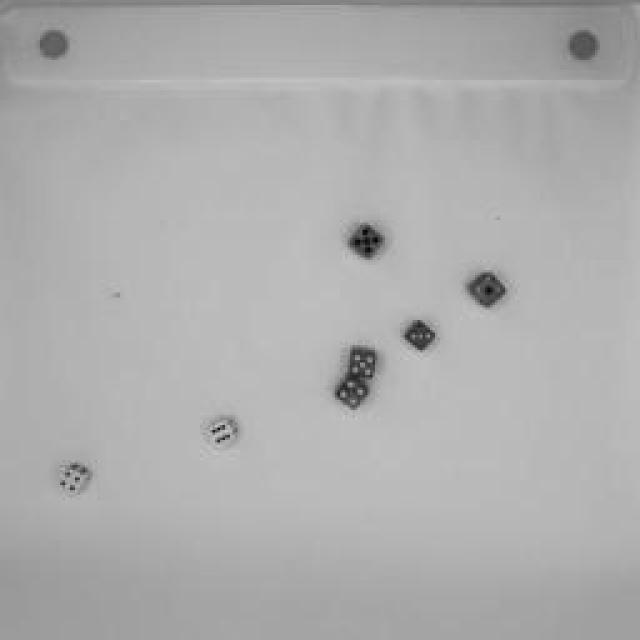dice_1: (465, 268, 510, 312)
dice_3: (403, 318, 435, 352)
dice_4: (55, 460, 100, 500), (332, 376, 372, 412)
dice_5: (341, 220, 389, 265), (345, 345, 380, 380)
dice_6: (202, 414, 240, 448)
